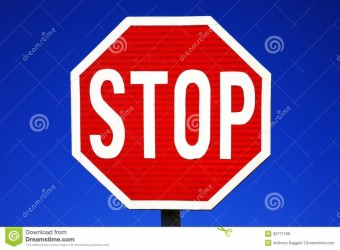SS: (68, 15, 272, 210)
